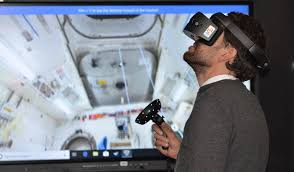oculus: (181, 10, 248, 47)
